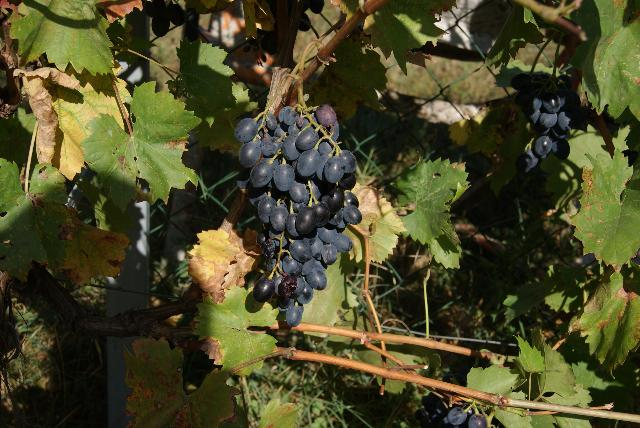grapes: (235, 104, 361, 325), (510, 72, 585, 172)
